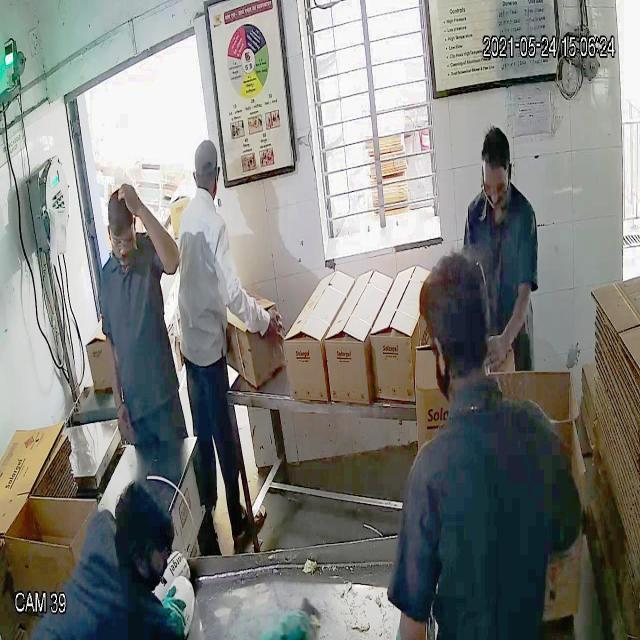glasses: (108, 223, 138, 250)
